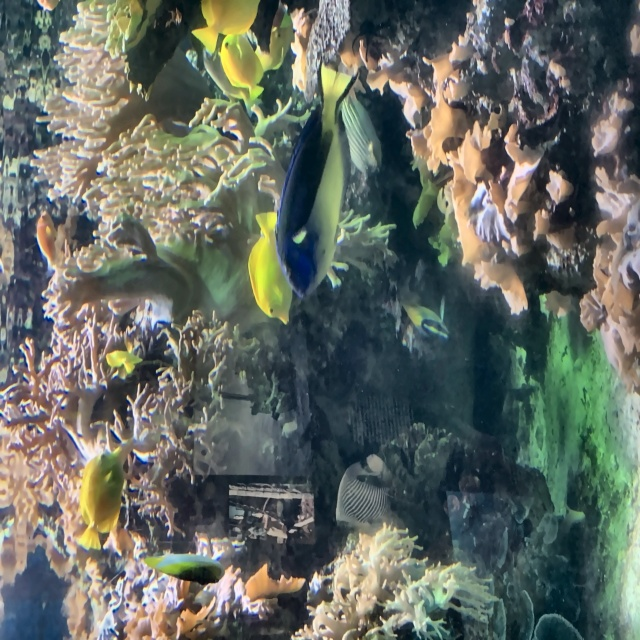fish: (275, 58, 360, 302), (78, 442, 129, 555), (248, 211, 294, 325), (335, 453, 391, 531), (195, 0, 261, 54), (145, 550, 226, 587), (219, 37, 265, 102), (400, 298, 452, 348), (37, 211, 58, 266)
